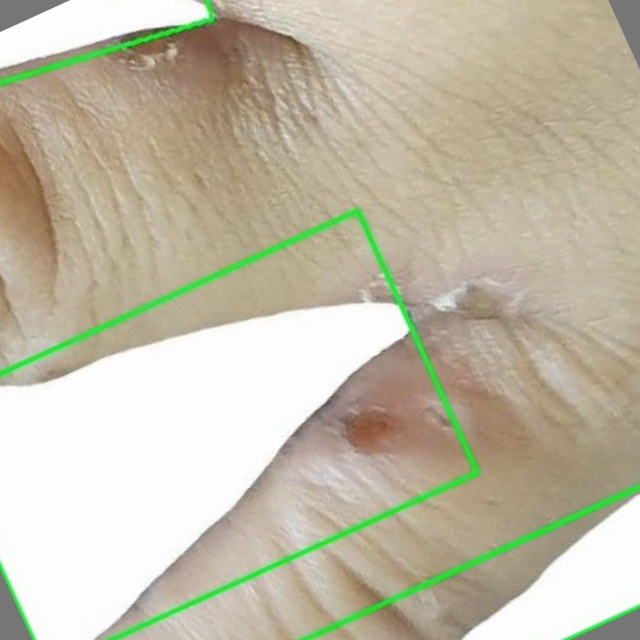Scabies: (0, 209, 477, 639)
